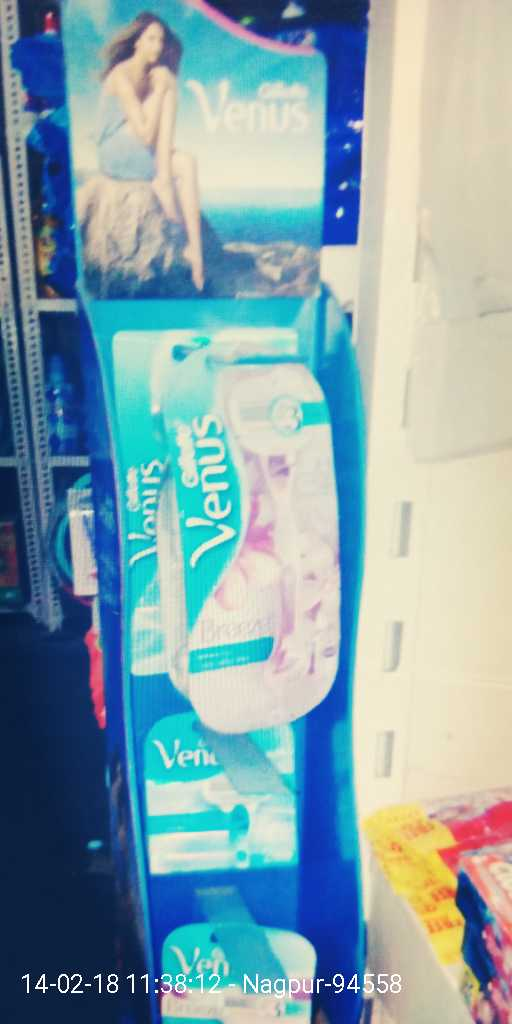venus: (169, 344, 338, 713), (142, 711, 292, 864)
